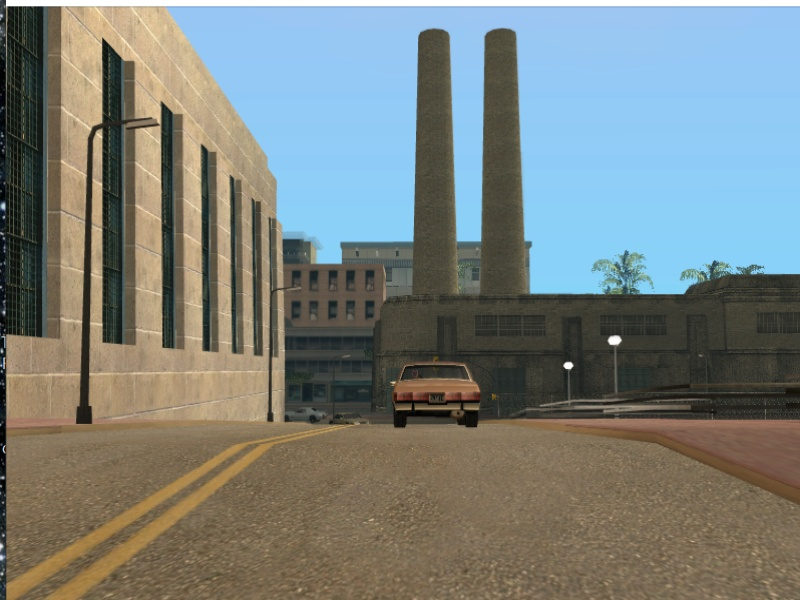pole: (74, 117, 94, 424), (266, 292, 273, 427)
vehicle: (390, 357, 487, 435), (287, 407, 326, 423), (331, 411, 369, 427)
